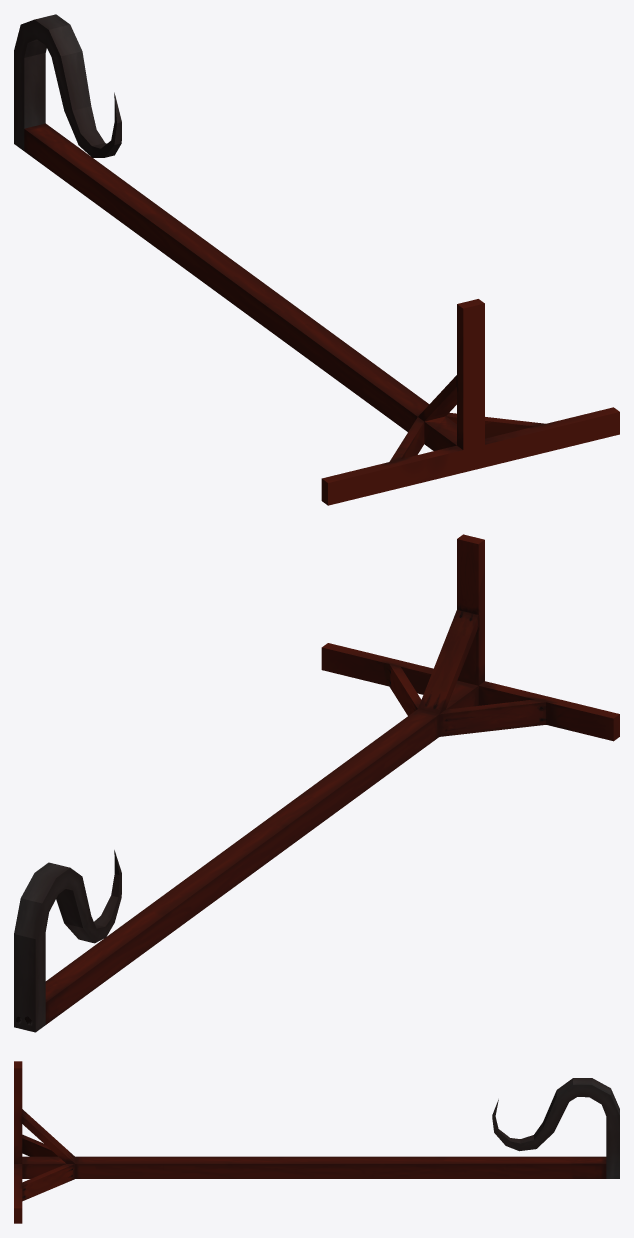
The model's file is lanternPole.dae.
The picture shows the model from 3 angles, top to bottom: view 1: azimuth 30°, elevation 25°; view 2: azimuth 150°, elevation 25°; view 3: azimuth 270°, elevation 25°; orthographic projection. The views are drawn at different scales.
Visible parts, largest first — view 1: Cube_001; view 2: Cube_001; view 3: Cube_001.
Part boxes in pixels (x1,y1,x2,y2): Cube_001: (14, 14, 619, 505); Cube_001: (14, 534, 619, 1032); Cube_001: (14, 1061, 619, 1223).
Size of the model in its own units: 4.32 by 11.51 by 2.32.
Materials: 1 (1 with a texture image).
